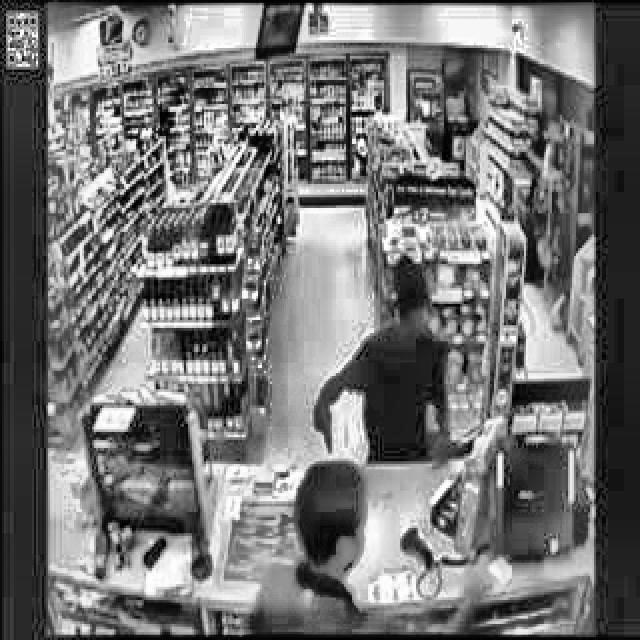robbery: (308, 255, 458, 469)
